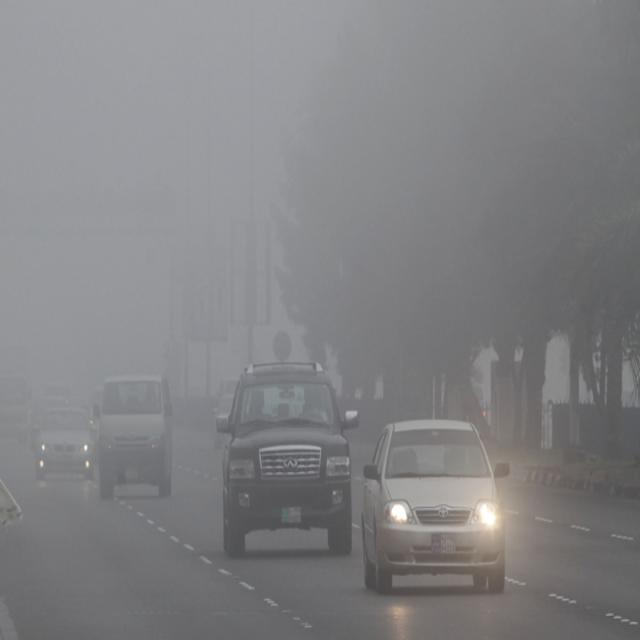bus: (0, 332, 28, 449)
car: (217, 357, 357, 557), (354, 414, 504, 600), (100, 380, 172, 501), (35, 408, 89, 483), (45, 382, 69, 411)
